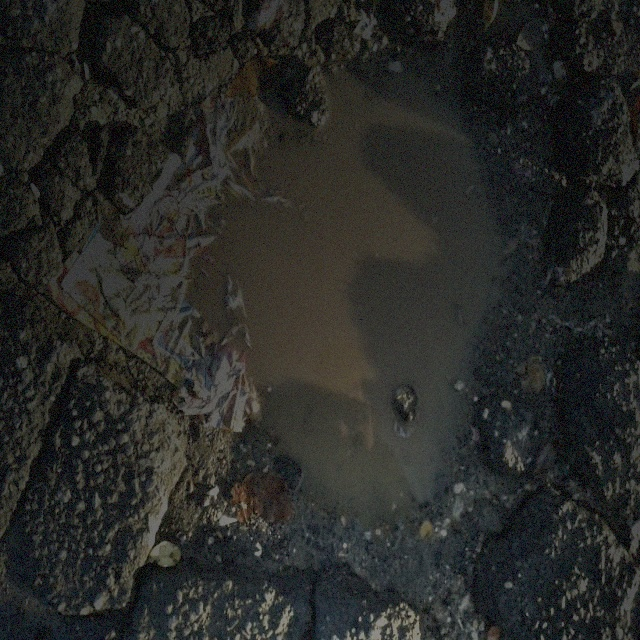pothole: (155, 27, 557, 566)
